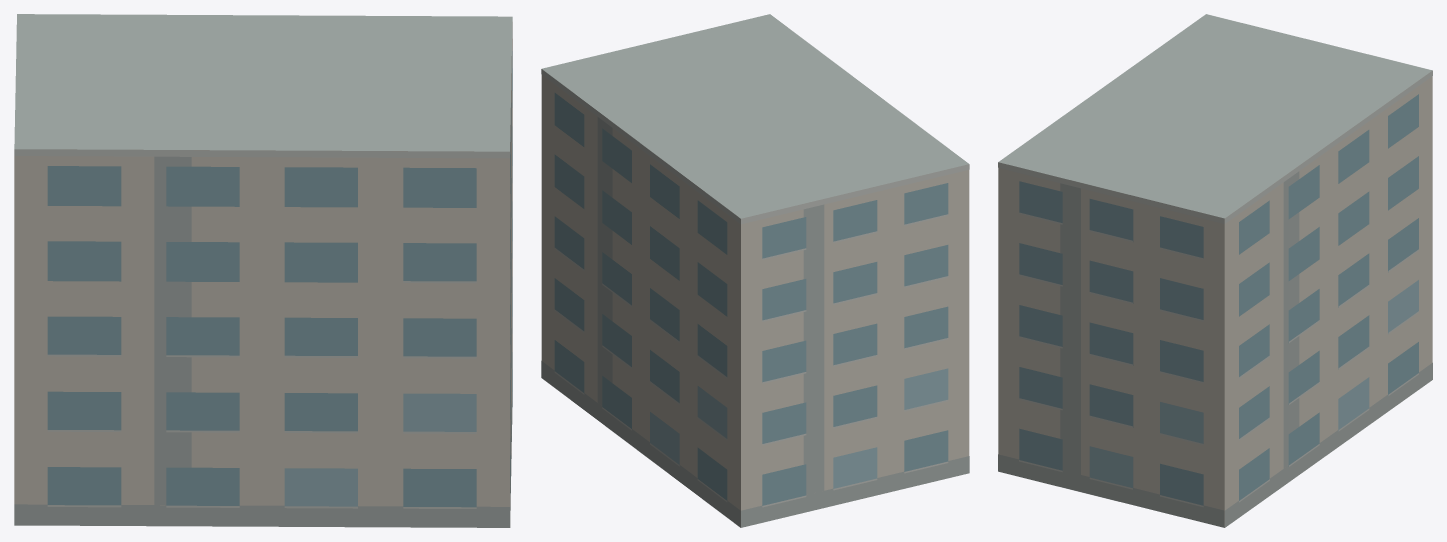
File: survey-upis-32609094.glb
The picture shows the model from 3 angles, left to right: view 1: azimuth 30°, elevation 25°; view 2: azimuth 150°, elevation 25°; view 3: azimuth 270°, elevation 25°; orthographic projection. The views are drawn at different scales.
Parts seen in each view (by area): view 1: survey-upis-32609094.tmp; view 2: survey-upis-32609094.tmp; view 3: survey-upis-32609094.tmp.
Boxes of the visible parts, x1,y1,x2,y2 form: survey-upis-32609094.tmp: (14, 14, 512, 527); survey-upis-32609094.tmp: (541, 14, 969, 527); survey-upis-32609094.tmp: (998, 14, 1432, 527).
Size of the model in its own units: 19 by 13.4 by 17.07.
